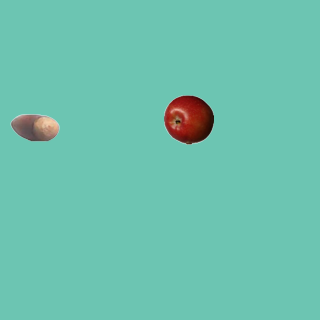Apple Braeburn: (163, 94, 213, 144)
Hazelnut: (9, 102, 59, 152)
